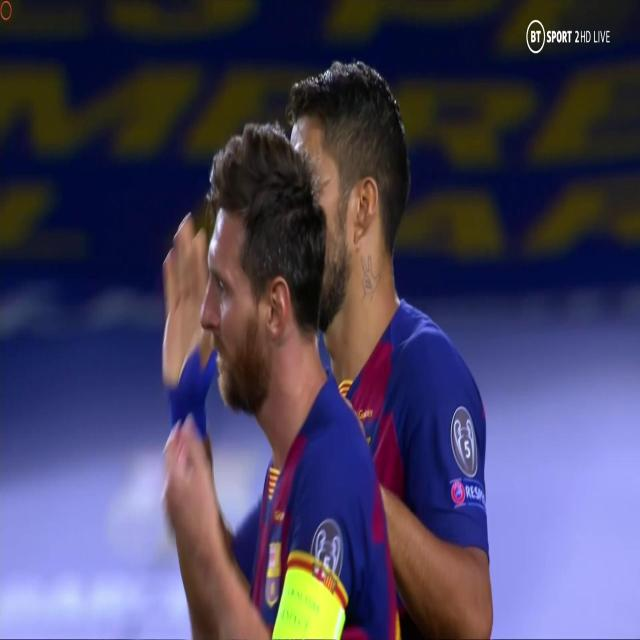player: (143, 108, 414, 640), (257, 42, 496, 640), (258, 43, 498, 617)
